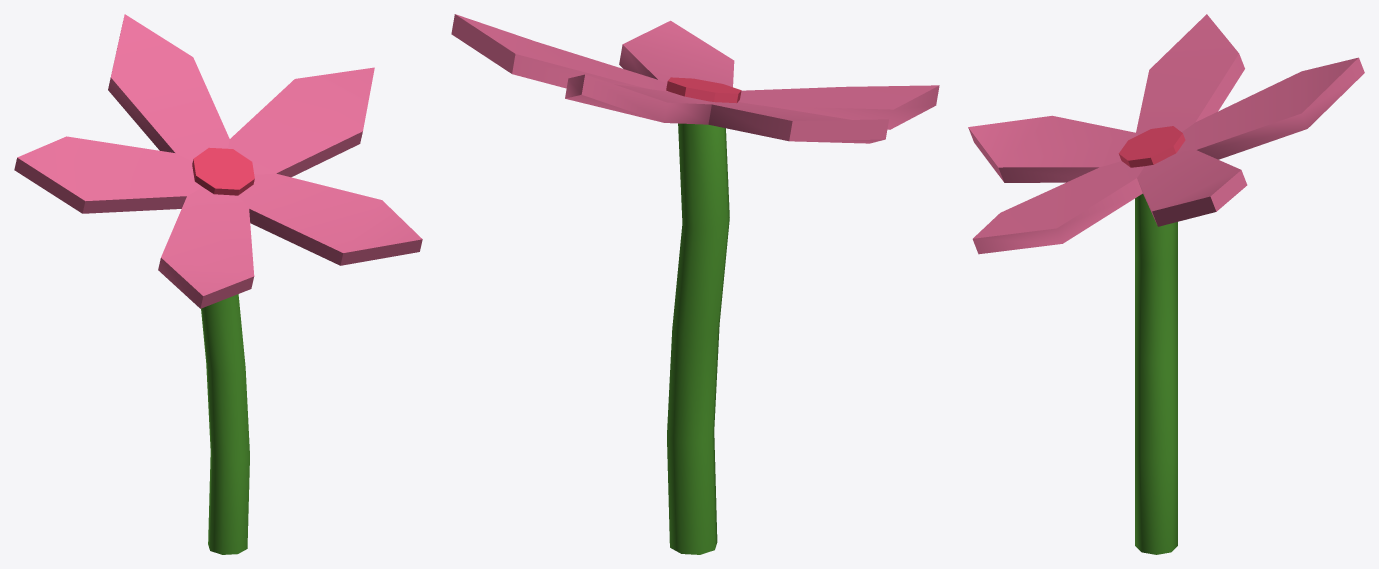
The model's file is Flower_Pink_1.fbx.
3 views of the same model, side by side, from view 1: azimuth 30°, elevation 25°; view 2: azimuth 150°, elevation 25°; view 3: azimuth 270°, elevation 25° (orthographic). The views are drawn at different scales.
Parts seen in each view (by area): view 1: Cube.081, Cylinder.610, Cylinder.609; view 2: Cube.081, Cylinder.610, Cylinder.609; view 3: Cube.081, Cylinder.610, Cylinder.609.
Boxes of the visible parts, left/top/right/bottom form: Cube.081: left=14, top=14, right=422, bottom=308; Cylinder.610: left=201, top=294, right=249, bottom=554; Cylinder.609: left=192, top=147, right=254, bottom=195; Cube.081: left=451, top=14, right=939, bottom=143; Cylinder.610: left=667, top=123, right=729, bottom=554; Cylinder.609: left=666, top=77, right=741, bottom=103; Cube.081: left=968, top=14, right=1364, bottom=254; Cylinder.610: left=1135, top=193, right=1177, bottom=554; Cylinder.609: left=1118, top=126, right=1185, bottom=167.
Bounding box in the file's own units: 71.56 × 88.17 × 65.36.
